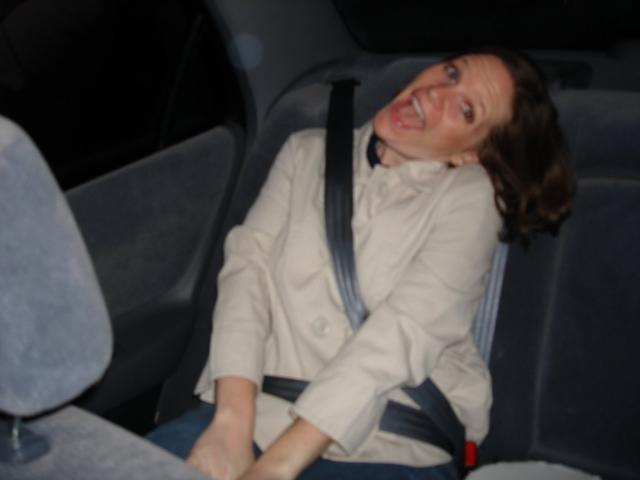Seatbelt: (262, 77, 468, 468)
